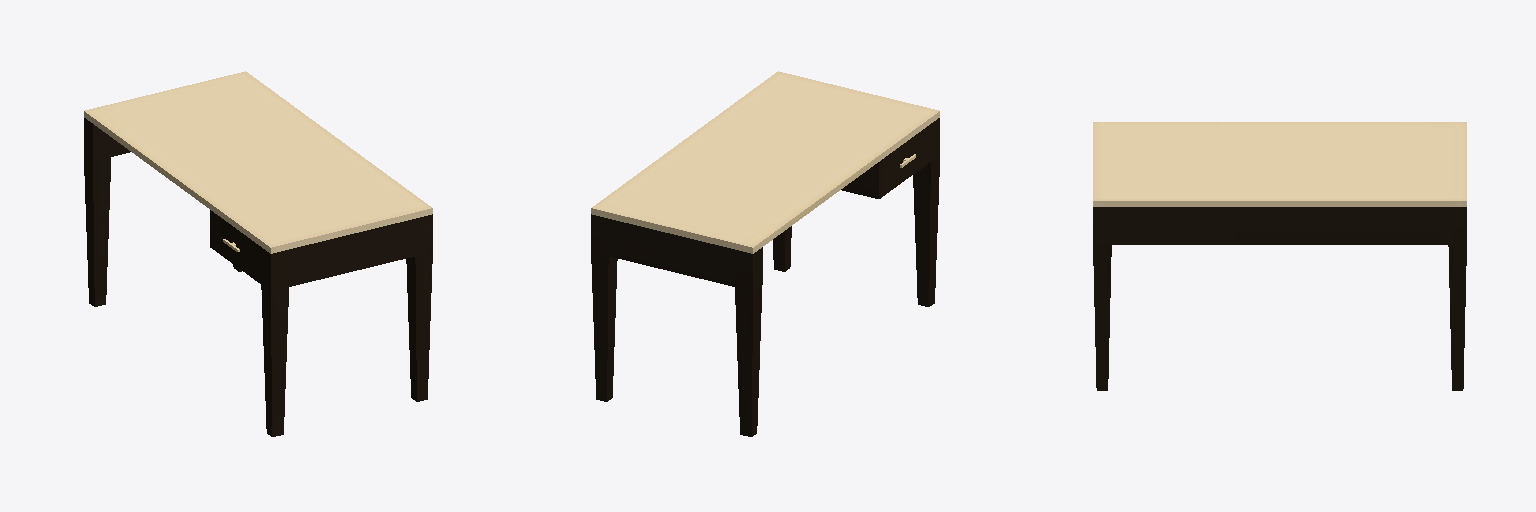
3 renders of one model, left to right at view 1: azimuth 30°, elevation 25°; view 2: azimuth 150°, elevation 25°; view 3: azimuth 270°, elevation 25°, orthographic.
Parts seen in each view (by area): view 1: desk_low_meshId0_name; view 2: desk_low_meshId0_name; view 3: desk_low_meshId0_name.
Part boxes in pixels (x1,y1,x2,y2): desk_low_meshId0_name: (84, 71, 432, 436); desk_low_meshId0_name: (591, 71, 939, 436); desk_low_meshId0_name: (1093, 122, 1466, 390).
Bounding box in the file's own units: 0.0103 × 0.0113 × 0.02.
Materials: 1 (1 with a texture image).